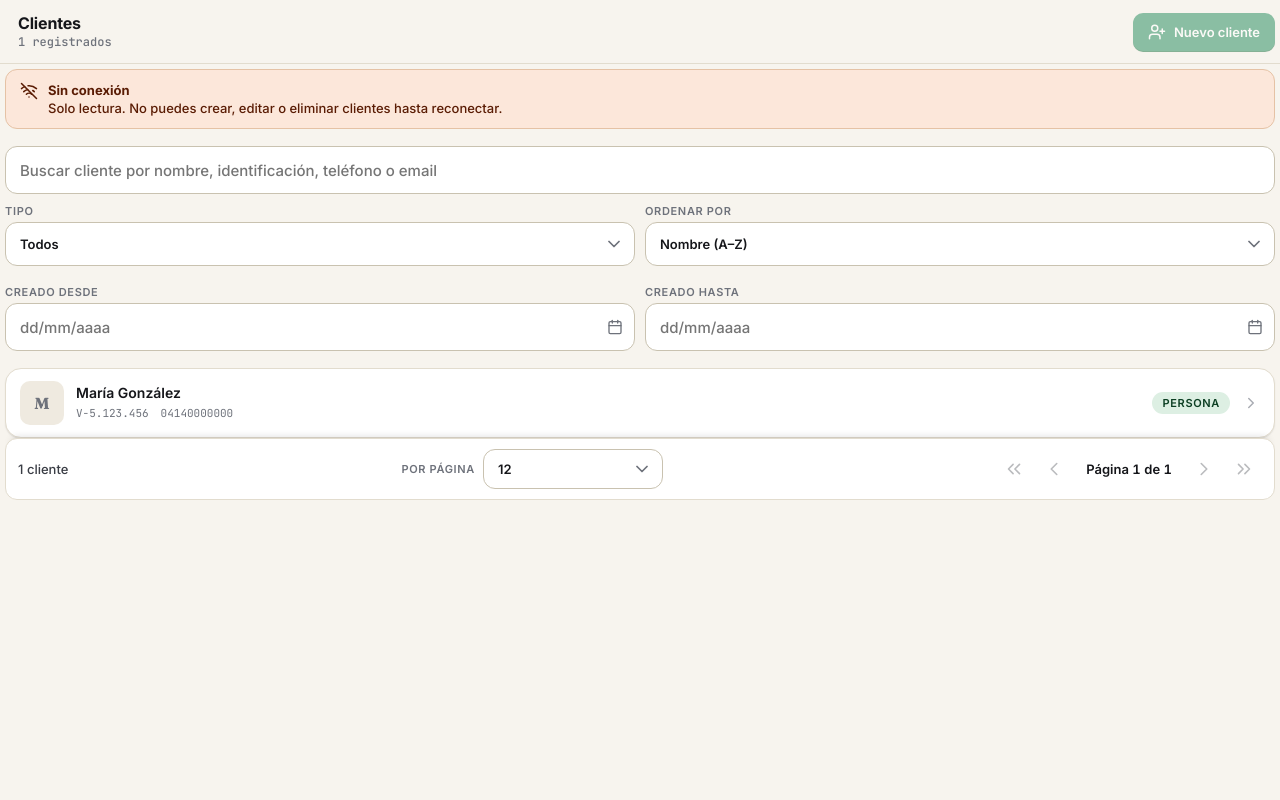
Test case: Clientes — offline write-blocking (FEATURES §18) › offline: the client detail blocks editar / eliminar with the offline notice
# Reads aren't blocked: the list renders and the row opens the detail sheet.
What coordinates should you click on to do the following:
click the text "María González"
I would click on:
 (42, 403)
Its box is [6, 369, 1274, 437].
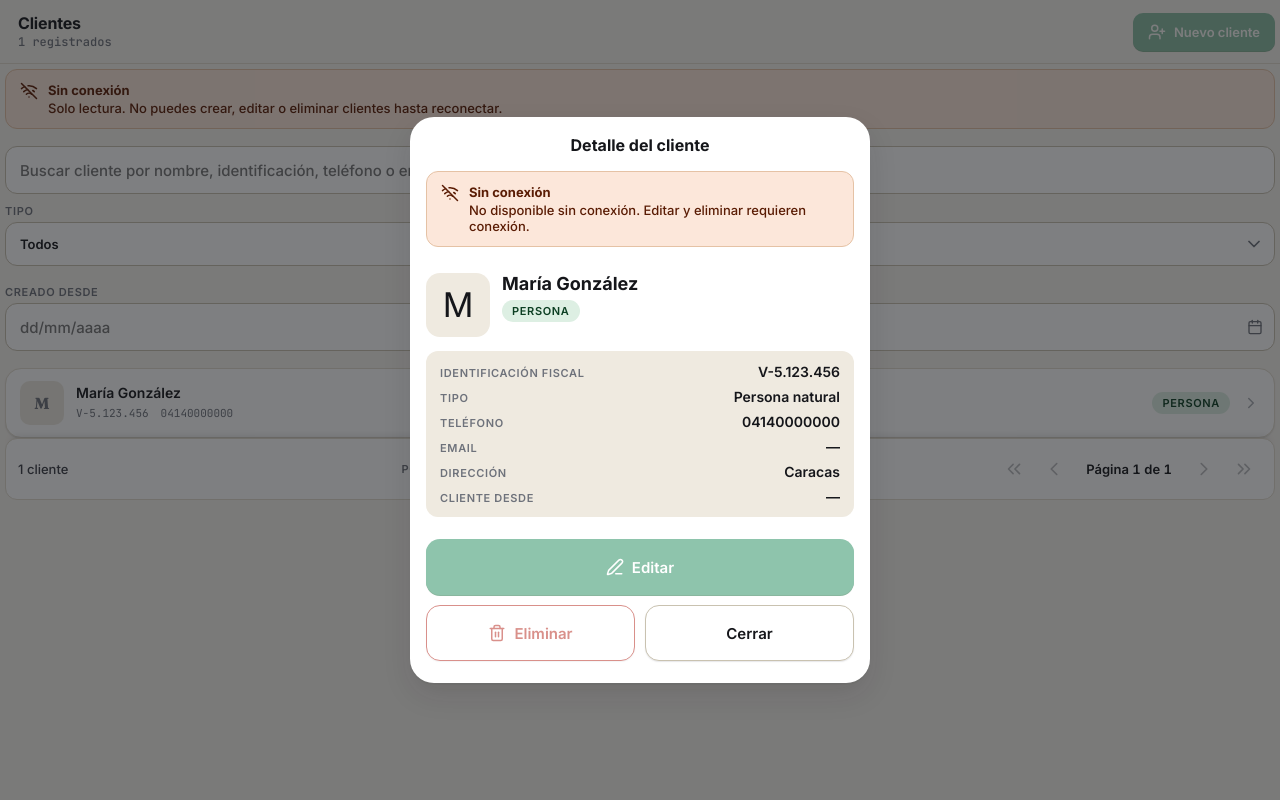
Expected: the button "Editar" is disabled, [426, 539, 854, 595]
Expected: the button "Eliminar" is disabled, [426, 605, 635, 661]
Expected: the text "Editar y eliminar requieren conexión" is shown, [469, 202, 806, 234]
